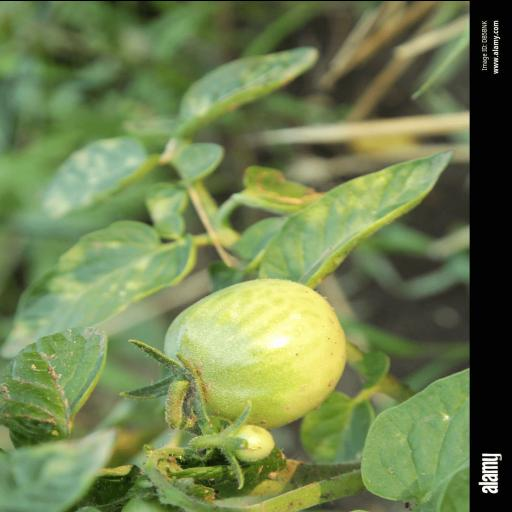disease_tomato: (0, 214, 199, 362), (254, 148, 454, 290), (23, 132, 163, 226)
